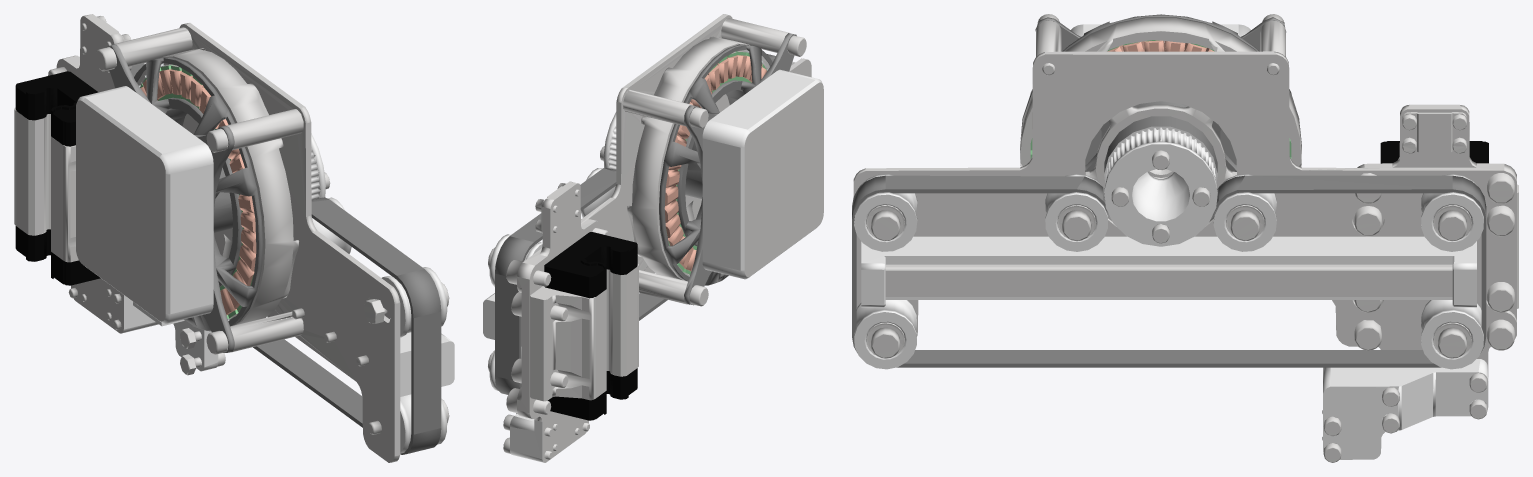
The picture shows the model from 3 angles, left to right: view 1: azimuth 30°, elevation 25°; view 2: azimuth 150°, elevation 25°; view 3: azimuth 270°, elevation 25°; orthographic projection. The views are drawn at different scales.
Parts seen in each view (by area): view 1: Untitled_001, Untitled_003, Untitled_002, Untitled_006, Untitled_007, Untitled_004, Untitled_008; view 2: Untitled_001, Untitled_002, Untitled_003, Untitled_006, Untitled_007, Untitled_004, Untitled_008; view 3: Untitled_001, Untitled_002, Untitled_003, Untitled_004, Untitled_007, Untitled_006.
Boxes of the visible parts, bbox=[...] form: Untitled_001: bbox=[14, 14, 449, 462]; Untitled_003: bbox=[130, 57, 441, 454]; Untitled_002: bbox=[77, 63, 454, 453]; Untitled_006: bbox=[15, 71, 100, 285]; Untitled_007: bbox=[140, 69, 256, 315]; Untitled_004: bbox=[106, 44, 234, 352]; Untitled_008: bbox=[140, 64, 254, 318]; Untitled_001: bbox=[488, 14, 823, 462]; Untitled_002: bbox=[483, 61, 822, 462]; Untitled_003: bbox=[495, 44, 775, 394]; Untitled_006: bbox=[544, 232, 637, 420]; Untitled_007: bbox=[664, 55, 766, 271]; Untitled_004: bbox=[684, 33, 796, 305]; Untitled_008: bbox=[666, 51, 767, 274]; Untitled_001: bbox=[853, 14, 1518, 462]; Untitled_002: bbox=[854, 24, 1488, 459]; Untitled_003: bbox=[852, 14, 1486, 367]; Untitled_004: bbox=[1035, 17, 1284, 164]; Untitled_007: bbox=[1107, 40, 1214, 51]; Untitled_006: bbox=[1380, 141, 1488, 163].
Bounding box in the file's own units: 0.0669 × 0.2059 × 0.1335.
